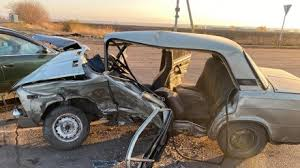car: (26, 22, 292, 160)
